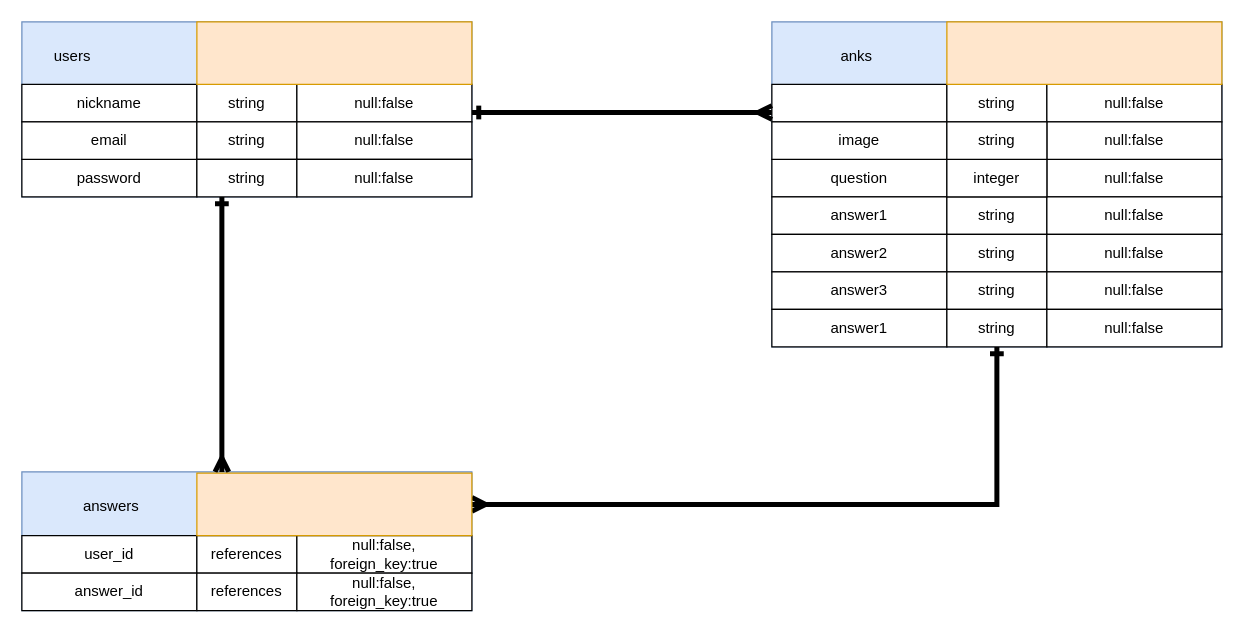
Some shapes in this 1244 by 633 pixel diagram are drawn without their labels. The shapes that lost their labels are listed below. From the top down, each one's centre as x and y in pixels, then its label:
At point 334,52: "has_many : anks has_many : answers".
At point 1084,52: "belong_to : user has_many : answers".
At point 859,102: "name".
At point 334,504: "belong_to : users belong_to : anks".
